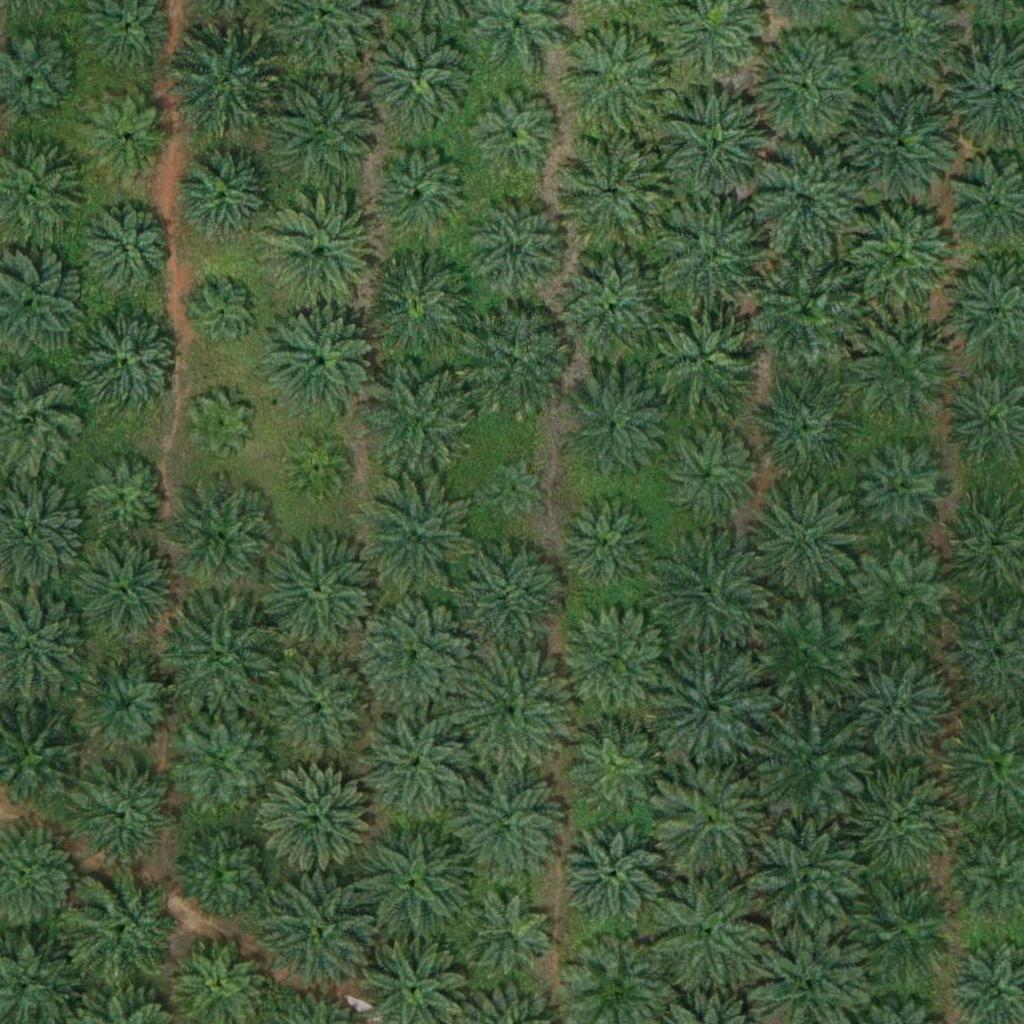Kelapa_Sawit: (165, 27, 278, 141), (747, 593, 860, 707), (653, 529, 766, 643), (559, 373, 672, 487), (68, 872, 181, 986), (754, 703, 867, 817), (171, 136, 284, 249), (263, 198, 376, 311), (560, 26, 673, 139), (552, 135, 665, 248), (844, 83, 957, 196), (846, 204, 959, 317), (657, 203, 770, 316), (648, 302, 761, 415), (653, 651, 766, 764), (557, 254, 670, 367), (356, 475, 469, 588), (360, 598, 473, 711), (265, 309, 378, 422), (262, 535, 375, 648), (262, 765, 375, 878), (355, 710, 468, 823), (358, 824, 471, 937), (654, 764, 767, 877), (749, 823, 862, 936), (268, 71, 380, 185), (365, 139, 477, 253), (842, 654, 954, 768), (459, 308, 571, 422), (362, 251, 474, 365), (850, 762, 962, 876), (366, 22, 478, 135), (660, 90, 772, 203), (748, 33, 860, 146), (749, 145, 861, 258), (848, 315, 960, 428), (751, 255, 863, 368), (747, 367, 859, 480), (749, 479, 861, 592), (560, 606, 672, 719), (454, 540, 566, 653), (456, 653, 568, 766), (365, 364, 477, 477), (262, 654, 374, 767), (166, 481, 278, 594), (165, 603, 277, 716), (74, 308, 186, 421), (68, 539, 180, 652), (260, 878, 372, 991), (450, 771, 562, 884), (656, 876, 768, 989), (847, 877, 959, 990), (854, 441, 954, 542), (854, 544, 954, 645), (76, 656, 176, 757), (176, 711, 276, 812), (177, 821, 277, 922), (461, 889, 561, 990), (565, 711, 665, 812), (561, 822, 661, 923), (468, 200, 568, 300), (658, 423, 758, 523), (556, 492, 656, 592), (79, 761, 179, 861), (83, 209, 171, 297), (80, 449, 168, 537), (83, 93, 170, 181), (474, 90, 561, 178), (286, 436, 349, 499), (194, 282, 257, 345), (189, 393, 252, 456), (483, 456, 545, 519)
